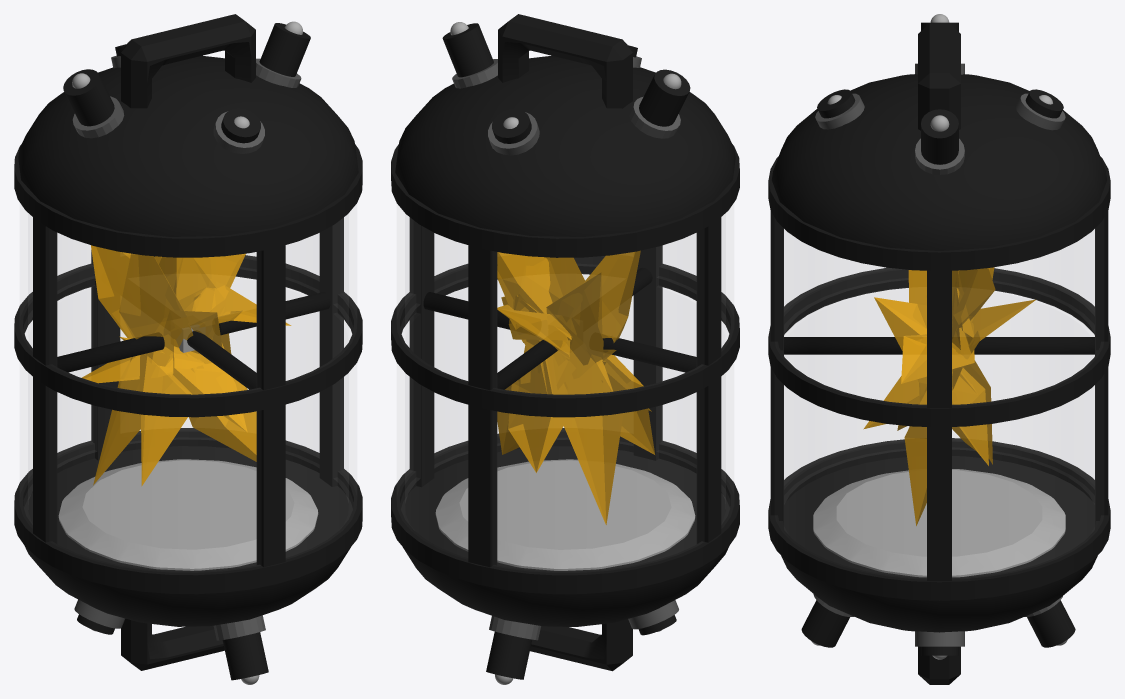
File: Crystal1.fbx
The picture shows the model from 3 angles, left to right: view 1: azimuth 30°, elevation 25°; view 2: azimuth 150°, elevation 25°; view 3: azimuth 270°, elevation 25°; orthographic projection. The views are drawn at different scales.
Visible parts, largest first — view 1: pCube36; view 2: pCube36; view 3: pCube36.
Boxes of the visible parts, x1=… form: pCube36: x1=14, y1=14, x2=362, y2=684; pCube36: x1=391, y1=14, x2=739, y2=684; pCube36: x1=768, y1=14, x2=1110, y2=684.
Bounding box in the file's own units: 13.71 × 27.06 × 13.71.
